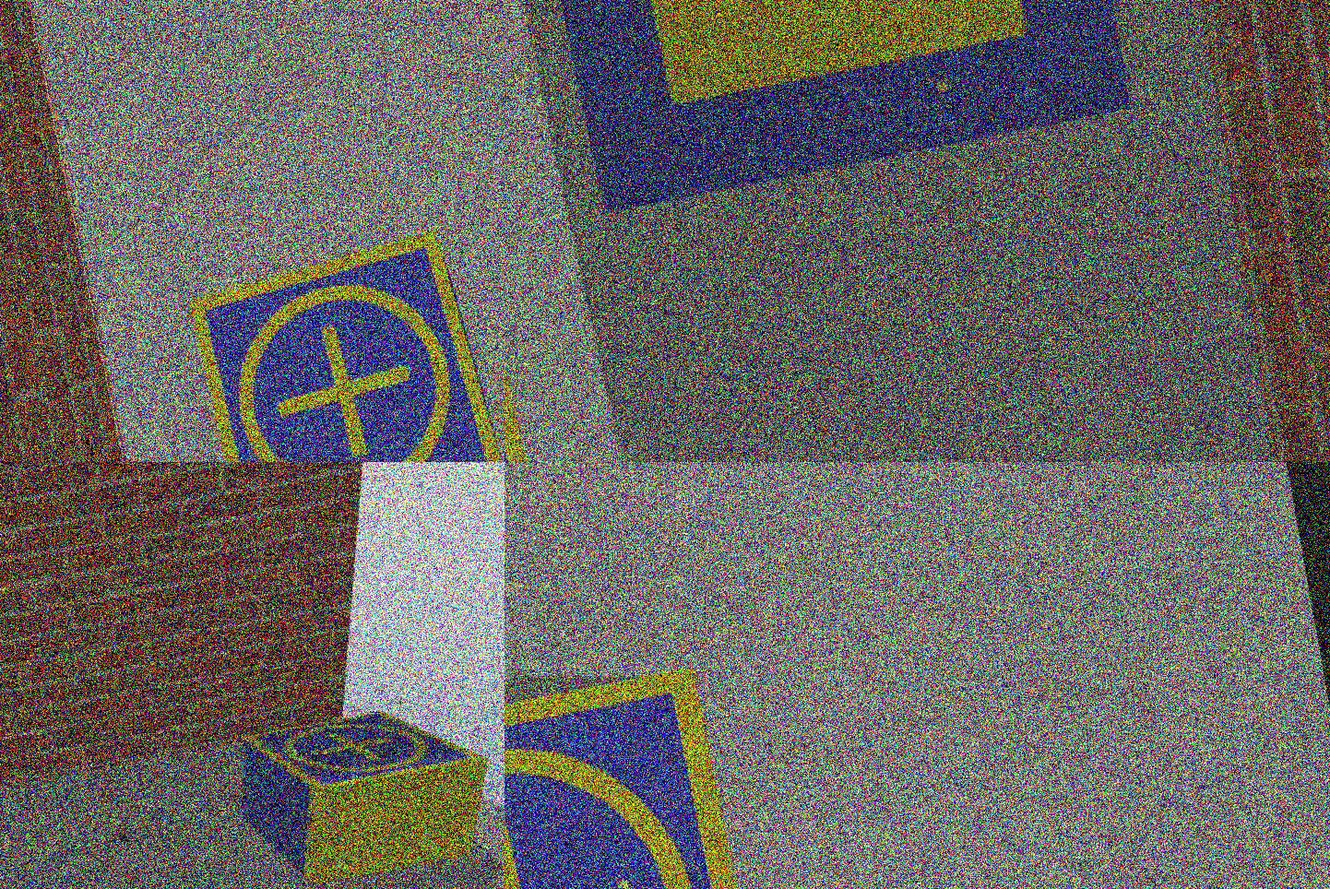large_base: (532, 1, 1141, 219)
small_base: (183, 220, 505, 462), (505, 660, 780, 889), (243, 698, 490, 809)
